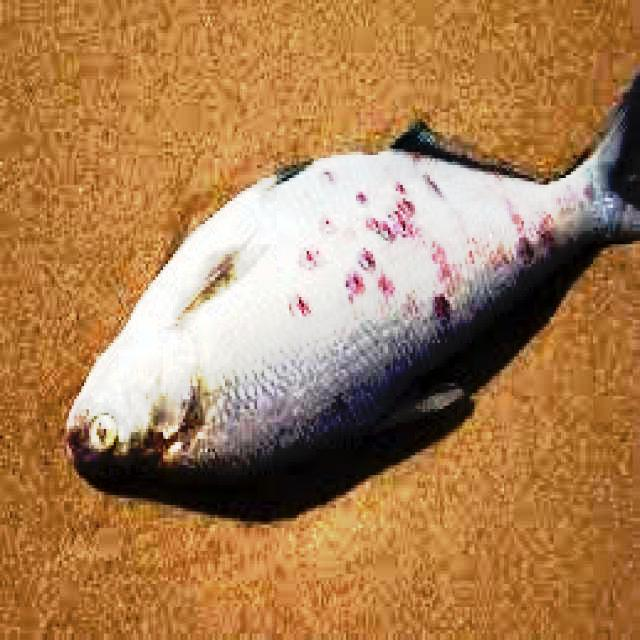Epizootic Ulcerative Syndrome -EUS-: (66, 73, 639, 481), (66, 76, 639, 479)
